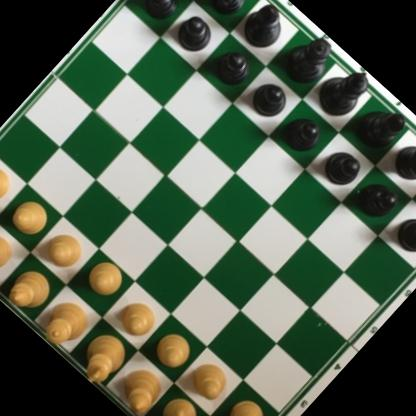black-bishop: (349, 95, 411, 158), (234, 0, 293, 54)
black-king: (310, 55, 379, 125)
black-knight: (387, 125, 416, 195), (198, 0, 265, 21)
black-pawn: (350, 171, 406, 227), (316, 140, 369, 193), (205, 42, 258, 95), (277, 108, 327, 159), (170, 10, 220, 60), (245, 76, 295, 126), (388, 206, 416, 262), (136, 0, 187, 27)
black-queen: (276, 26, 343, 95)
white-bishop: (0, 261, 61, 325), (112, 359, 172, 416)
white-king: (71, 326, 134, 390)
white-knight: (145, 388, 210, 416), (0, 223, 18, 286)
white-pawn: (5, 192, 57, 244), (39, 226, 90, 277), (112, 294, 163, 345), (81, 254, 132, 304), (185, 355, 234, 403), (149, 323, 197, 371), (224, 391, 274, 416), (0, 159, 18, 210)
white-queen: (31, 290, 97, 357)
